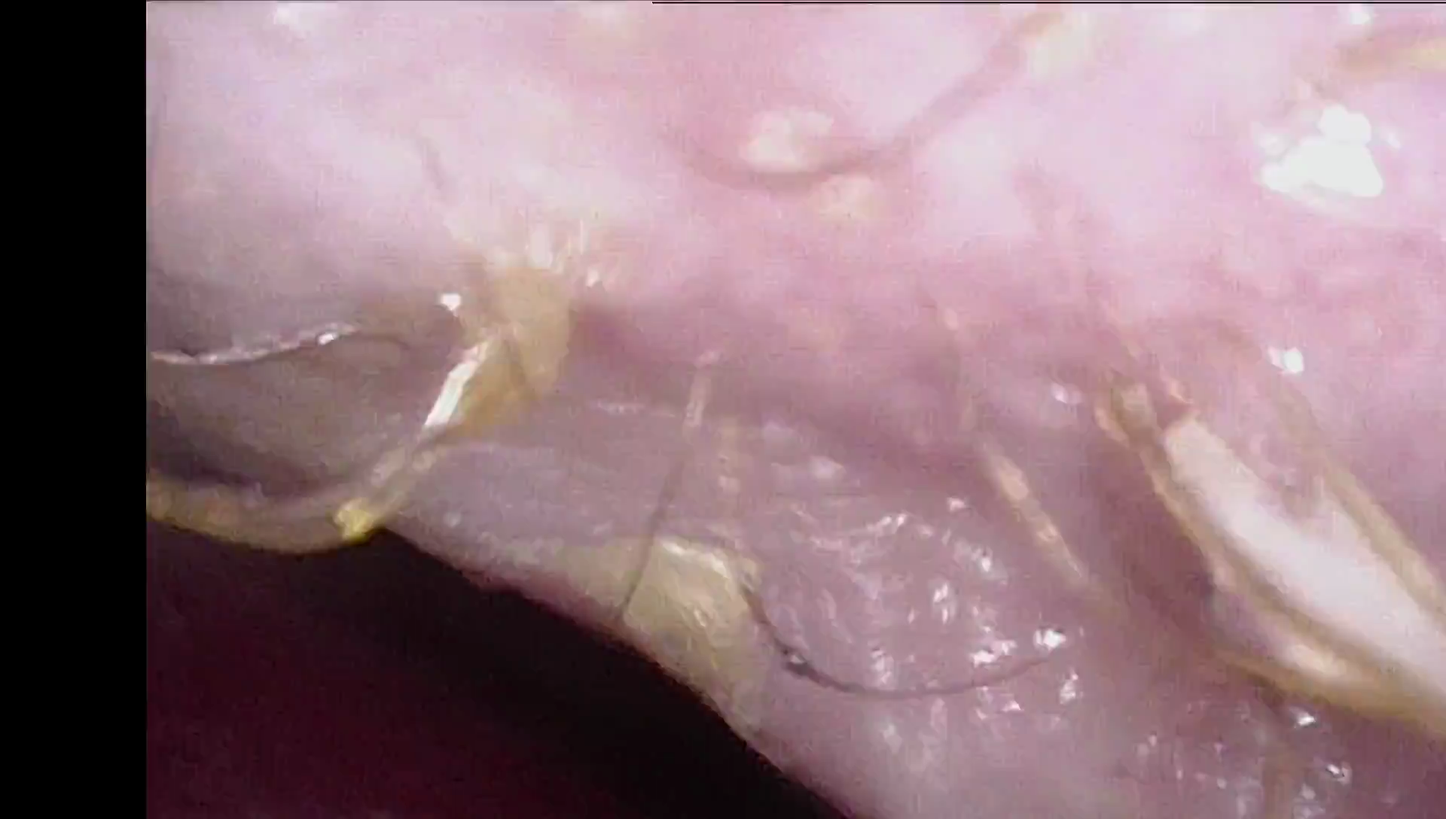close_wall: (154, 0, 1446, 400)
next: (417, 558, 858, 819)
